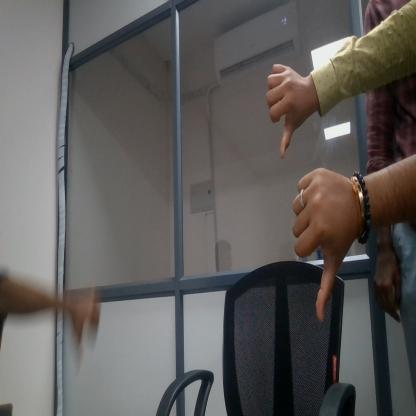Thumbs Down: (282, 156, 362, 340), (254, 47, 318, 160)
